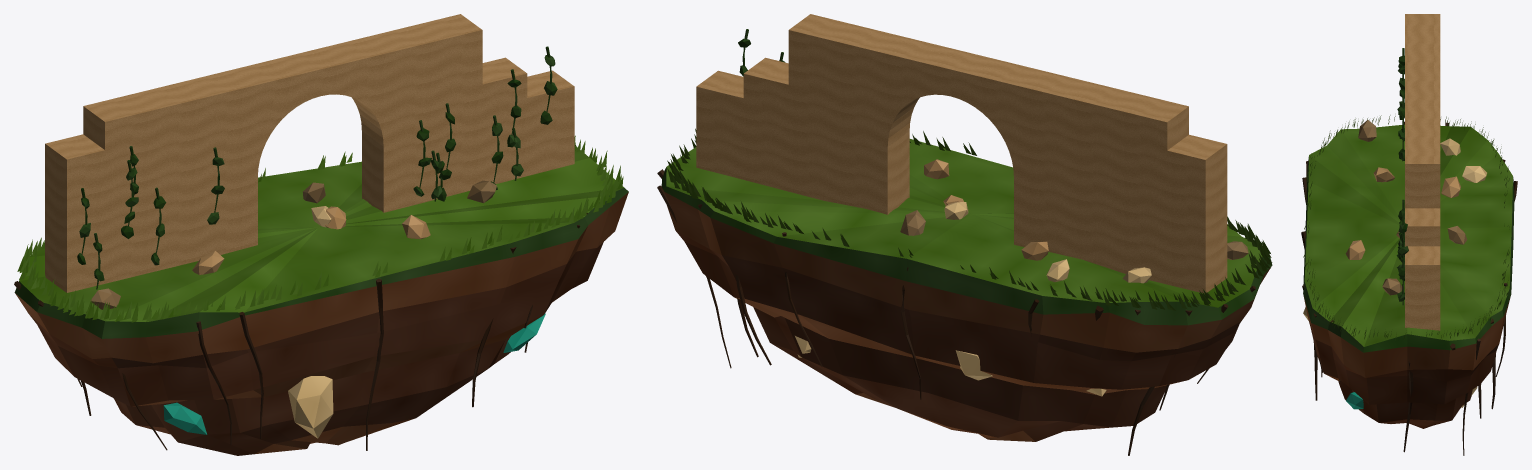
Rendered from floating_earth_wall.glb.
3 renders of one model, left to right at view 1: azimuth 30°, elevation 25°; view 2: azimuth 150°, elevation 25°; view 3: azimuth 270°, elevation 25°, orthographic. The views are drawn at different scales.
Parts seen in each view (by area): view 1: FloatingEarthWall; view 2: FloatingEarthWall; view 3: FloatingEarthWall.
Boxes of the visible parts, bbox=[...] form: FloatingEarthWall: bbox=[14, 14, 628, 455]; FloatingEarthWall: bbox=[657, 14, 1272, 455]; FloatingEarthWall: bbox=[1301, 14, 1517, 455].
Size of the model in its own units: 12.62 by 7.99 by 5.13.
10 materials, 10 textured.
